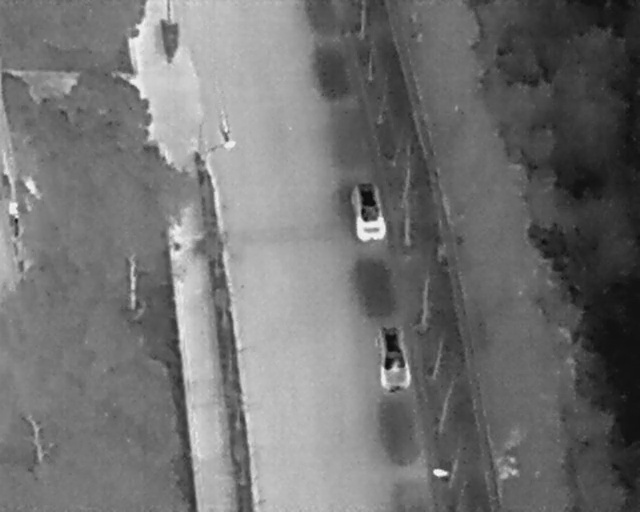Car: (374, 324, 414, 391), (350, 180, 386, 243)
Person: (222, 126, 231, 142)
